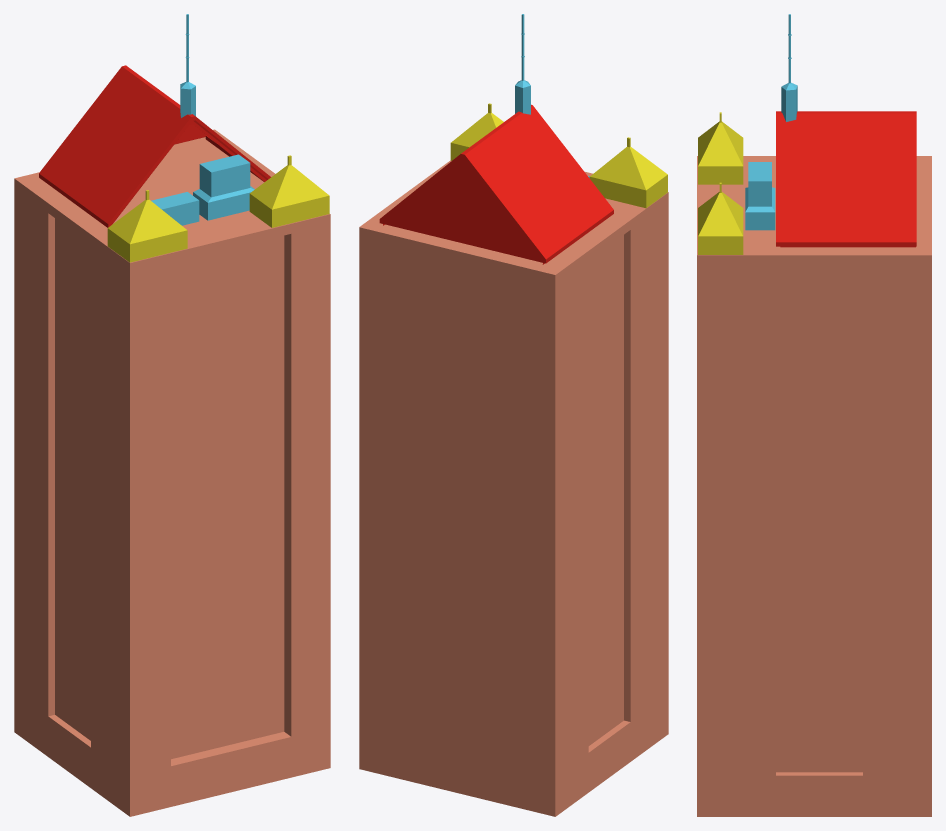
The model's file is building5.fbx.
The picture shows the model from 3 angles, left to right: view 1: azimuth 30°, elevation 25°; view 2: azimuth 150°, elevation 25°; view 3: azimuth 270°, elevation 25°; orthographic projection. The views are drawn at different scales.
Visible parts, largest first — view 1: building5_base, building5_top_part3, building5_top_part2, building5_top_part1; view 2: building5_base, building5_top_part3, building5_top_part2, building5_top_part1; view 3: building5_base, building5_top_part3, building5_top_part2, building5_top_part1.
Part boxes in pixels (box(x1,y1,x2,y2)): building5_base: box(14, 129, 330, 816); building5_top_part3: box(39, 65, 270, 227); building5_top_part2: box(107, 155, 329, 262); building5_top_part1: box(151, 14, 254, 225); building5_base: box(359, 160, 668, 816); building5_top_part3: box(379, 104, 613, 264); building5_top_part2: box(450, 103, 667, 208); building5_top_part1: box(515, 14, 589, 177); building5_base: box(697, 156, 931, 816); building5_top_part3: box(776, 111, 916, 247); building5_top_part2: box(698, 112, 743, 254); building5_top_part1: box(745, 14, 797, 230).
Size of the model in its own units: 4147 by 14693 by 4147.
